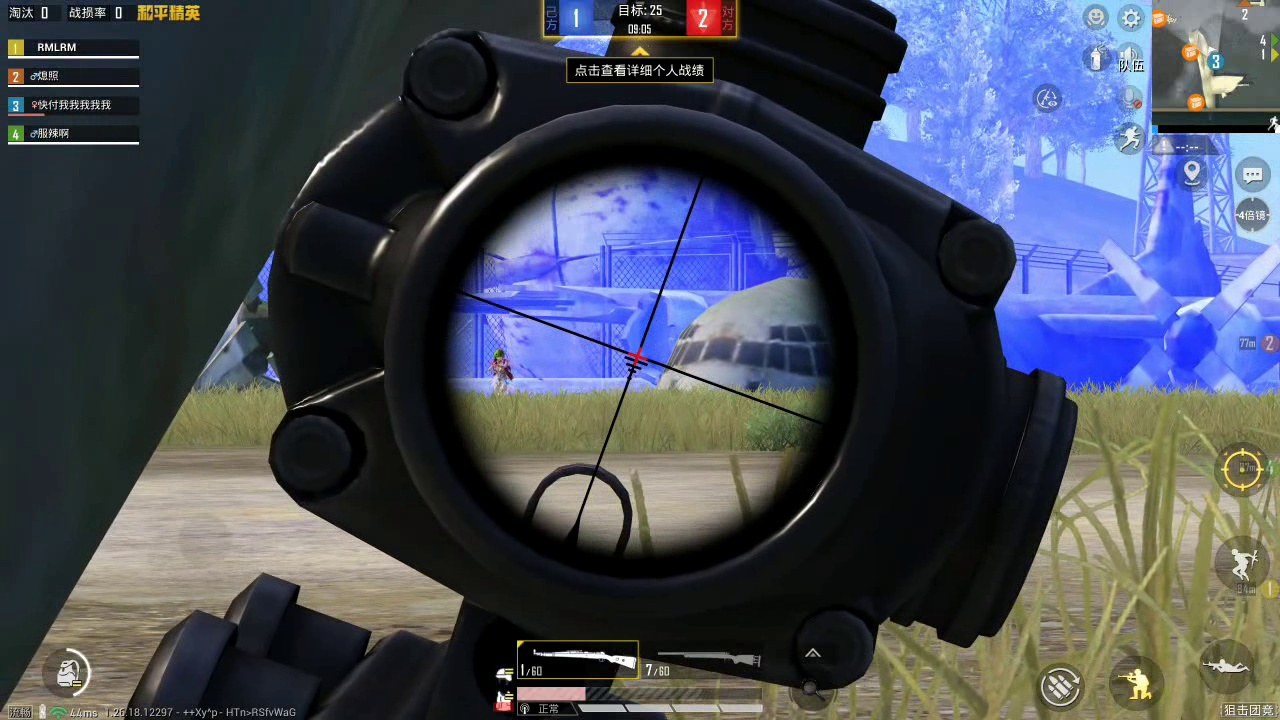enemy: (487, 347, 515, 397)
